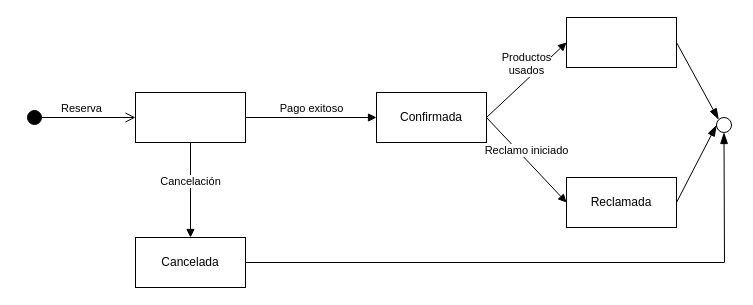
Some shapes in this 753 by 305 pixel diagram are drawn without their labels. Here are the shapes that lost their labels. From the top down, the box of each, then its label:
(566, 16, 676, 68): Consumida
(134, 92, 246, 142): Pendiente Confirmación
